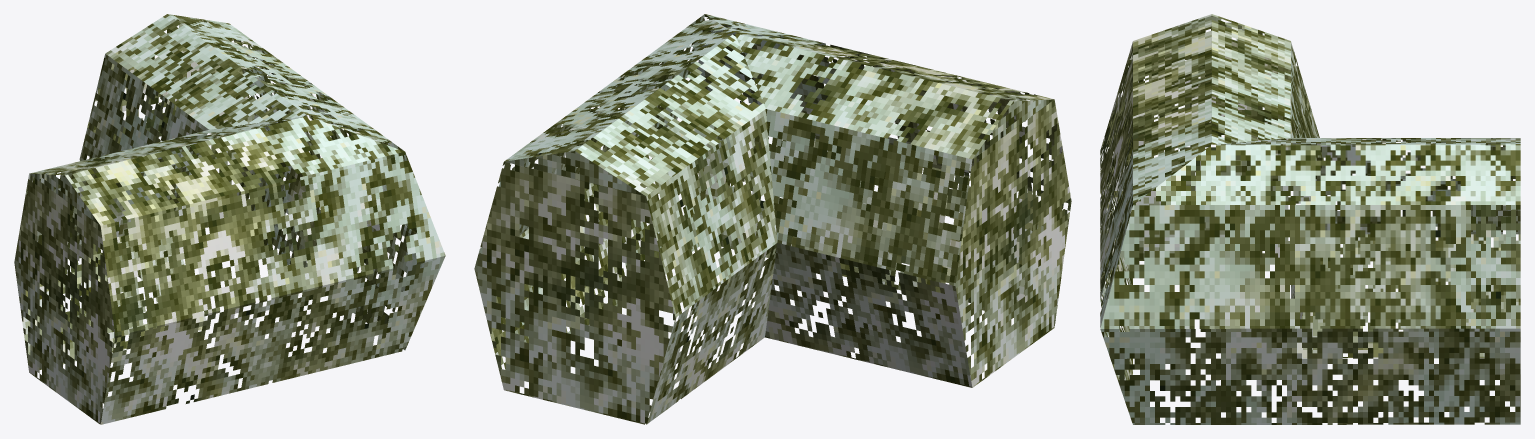
Rendered from bush_square_corner_winter.glb.
3 renders of one model, left to right at view 1: azimuth 30°, elevation 25°; view 2: azimuth 150°, elevation 25°; view 3: azimuth 270°, elevation 25°, orthographic. The views are drawn at different scales.
Visible parts, largest first — view 1: bush_square_corner_winter; view 2: bush_square_corner_winter; view 3: bush_square_corner_winter.
Part boxes in pixels (x1,y1,x2,y2): bush_square_corner_winter: [14, 14, 445, 424]; bush_square_corner_winter: [474, 14, 1071, 424]; bush_square_corner_winter: [1100, 14, 1520, 424].
Size of the model in its own units: 1.36 by 0.8765 by 1.35.
Materials: 1 (1 with a texture image).
